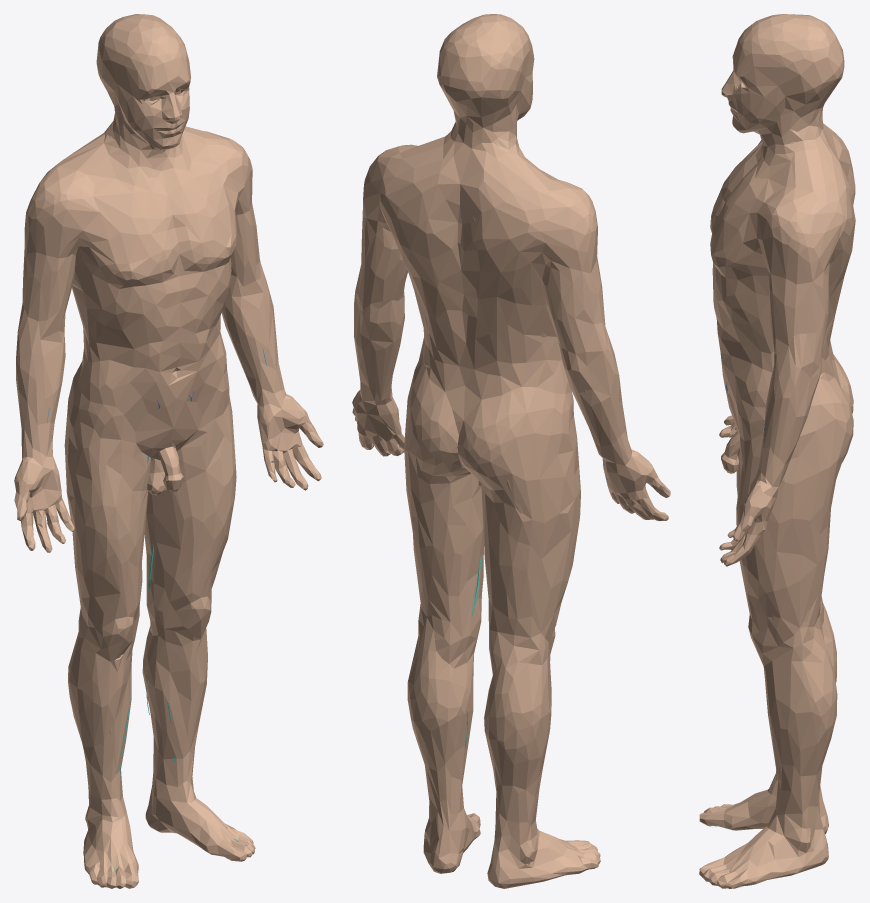
The model's file is veins.glb.
3 views of the same model, side by side, from view 1: azimuth 30°, elevation 25°; view 2: azimuth 150°, elevation 25°; view 3: azimuth 270°, elevation 25° (orthographic). The views are drawn at different scales.
Visible parts, largest first — view 1: skin; view 2: skin; view 3: skin.
Part boxes in pixels (left/top/right/bottom): skin: left=14, top=14, right=323, bottom=888; skin: left=352, top=14, right=670, bottom=888; skin: left=699, top=14, right=855, bottom=888.
Size of the model in its own units: 0.6672 by 1.72 by 0.2924.
